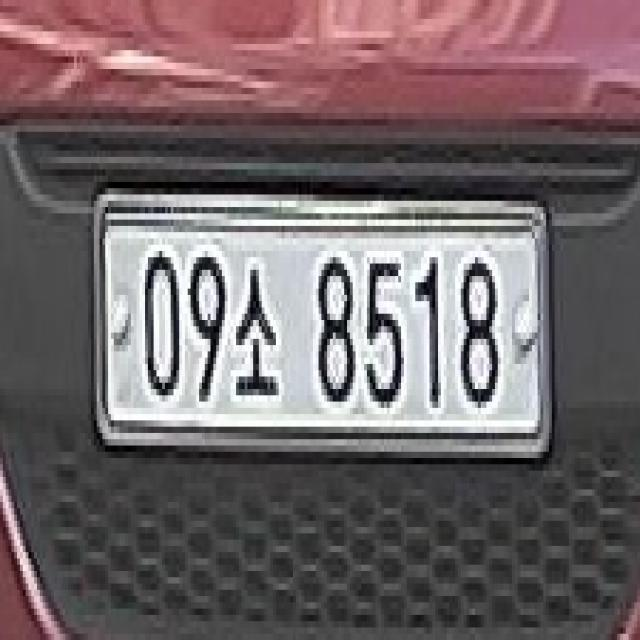0: (140, 245, 182, 400)
1: (411, 244, 448, 416)
5: (361, 246, 406, 417)
8: (456, 248, 506, 416), (316, 247, 355, 413)
9: (187, 242, 229, 410)
license_plate: (79, 187, 572, 469)
so: (235, 258, 293, 416)
